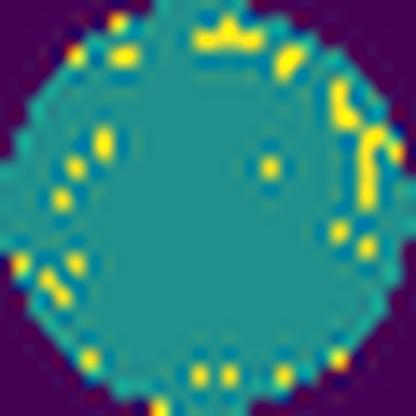Scratch: (187, 14, 267, 58), (356, 124, 391, 221)
